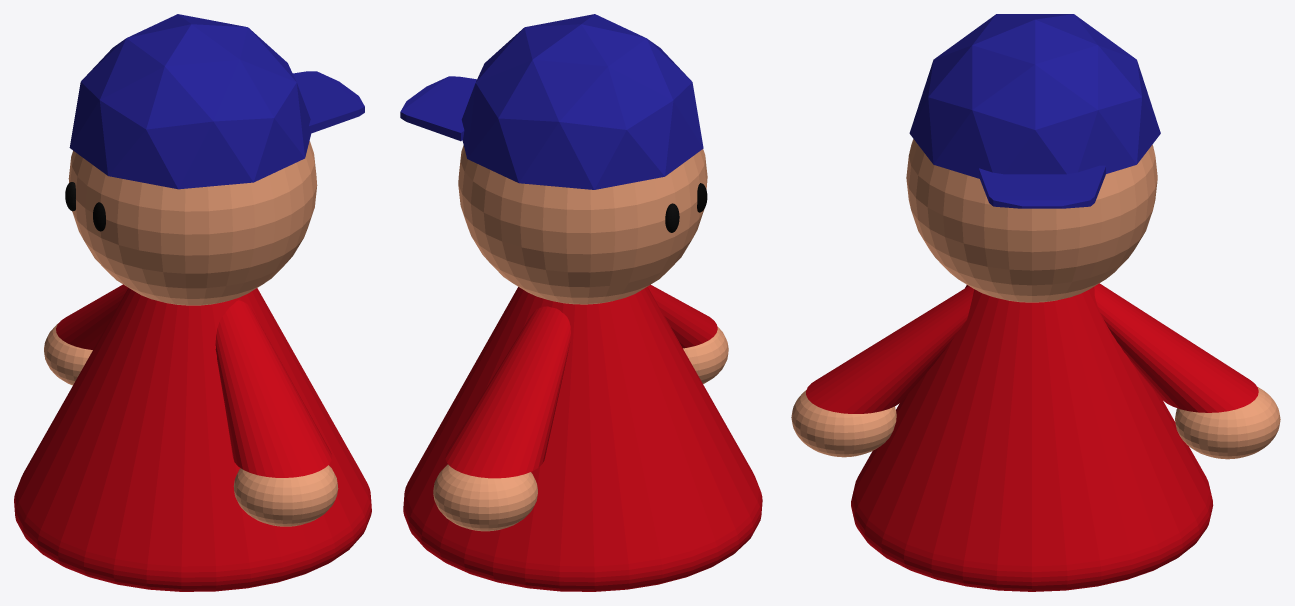
File: niño.glb
3 renders of one model, left to right at view 1: azimuth 30°, elevation 25°; view 2: azimuth 150°, elevation 25°; view 3: azimuth 270°, elevation 25°, orthographic.
Visible parts, largest first — view 1: Sphere.001; view 2: Sphere.001; view 3: Sphere.001.
Boxes of the visible parts, box(x1,y1,x2,y2) form: Sphere.001: box(14, 14, 371, 591); Sphere.001: box(400, 14, 762, 591); Sphere.001: box(791, 14, 1280, 591).
Bounding box in the file's own units: 2.93 × 4.42 × 3.89.
